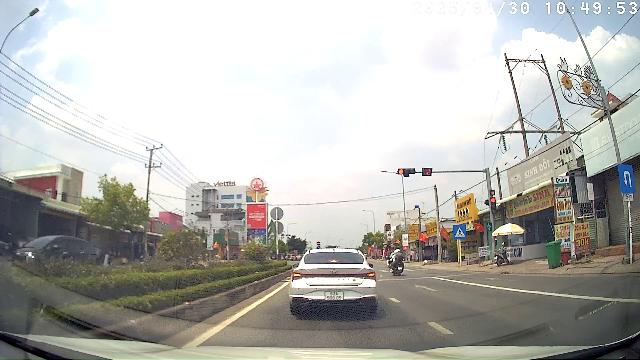423a-duong-nguoi-di-bo-sang-ngang-1: (454, 225, 466, 239)
